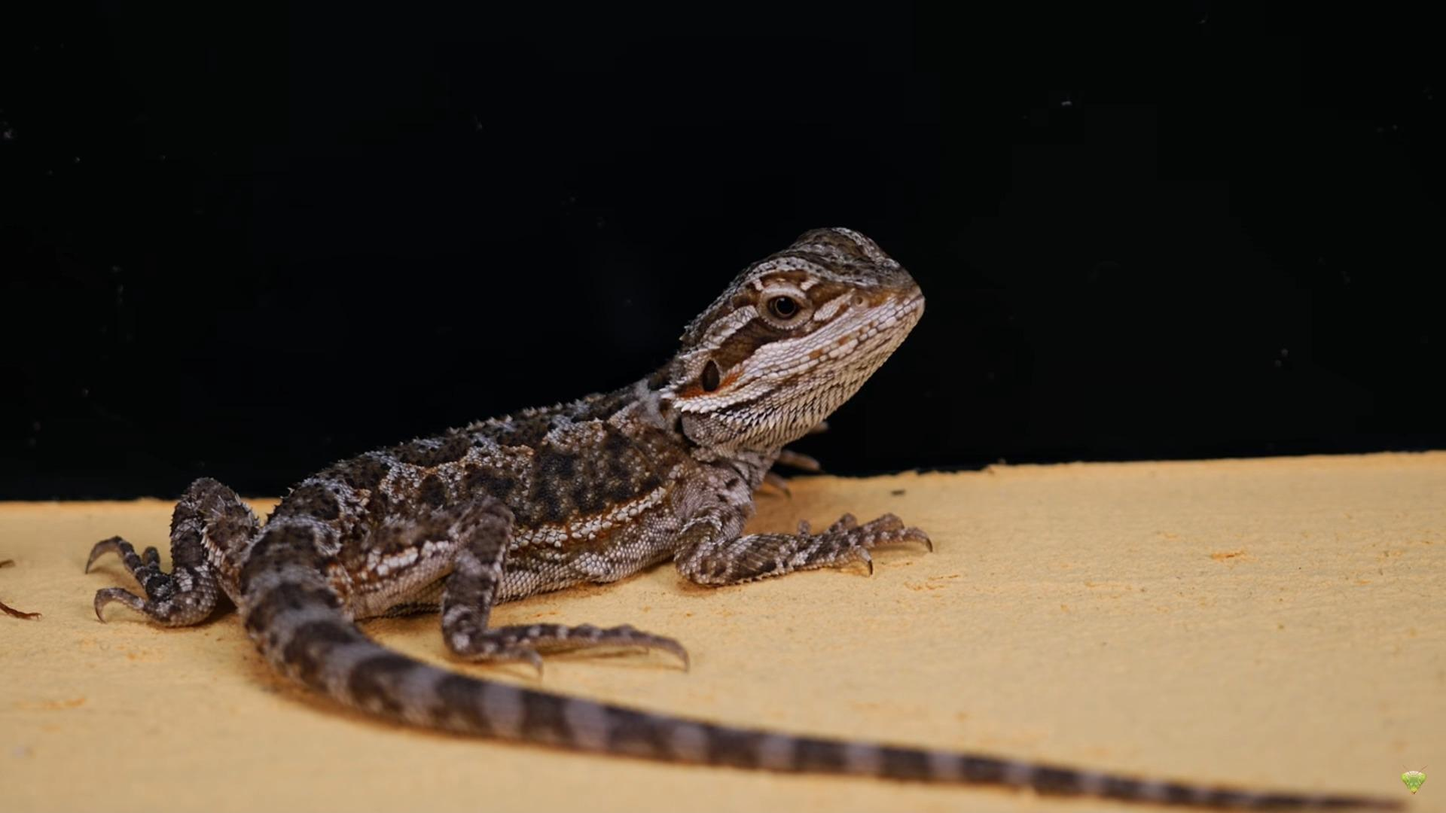lizard: (88, 219, 925, 779)
